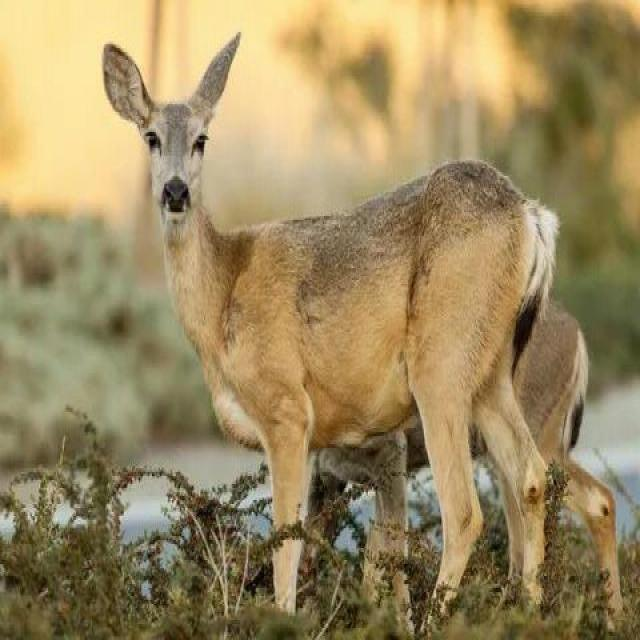deer: (96, 59, 482, 497)
